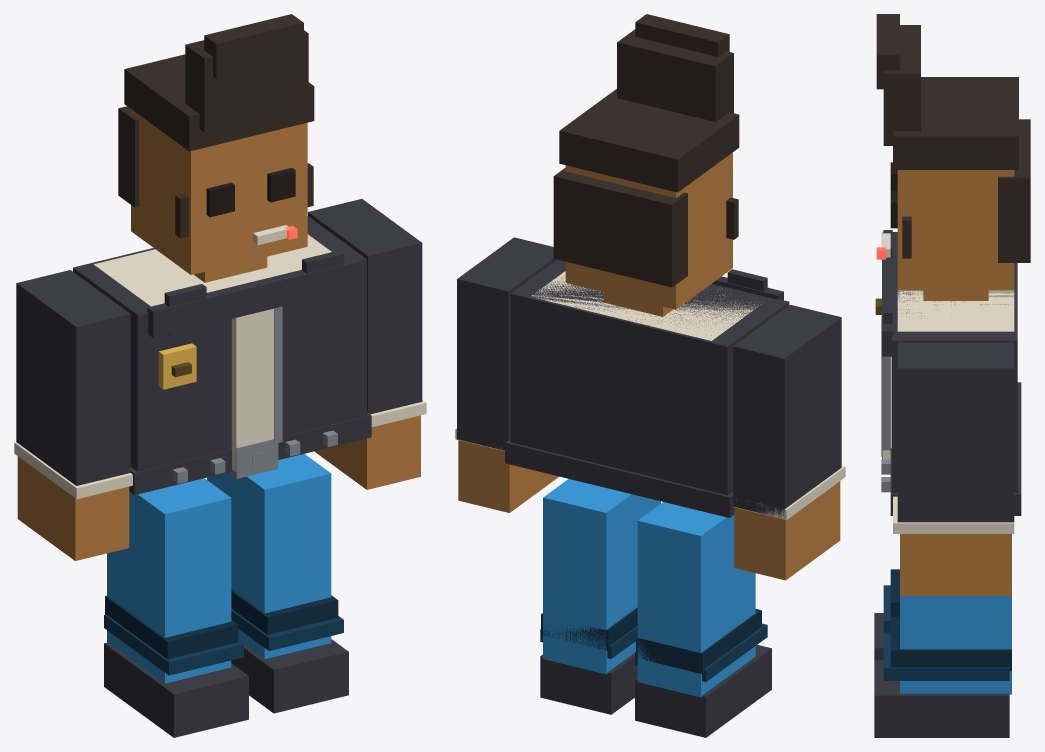
Rendered from archetypes__biker.glb.
3 views of the same model, side by side, from view 1: azimuth 30°, elevation 25°; view 2: azimuth 150°, elevation 25°; view 3: azimuth 270°, elevation 25° (orthographic). The views are drawn at different scales.
Visible parts, largest first — view 1: archetypes__biker, rig_armL, rig_legL, rig_legR, rig_armR; view 2: archetypes__biker, rig_armL, rig_legL, rig_legR, rig_armR; view 3: archetypes__biker, rig_armR, rig_legR, rig_legL.
Boxes of the visible parts, x1,y1,x2,y2 form: archetypes__biker: (73,14,371,495); rig_armL: (14,270,132,560); rig_legL: (104,478,248,737); rig_legR: (207,454,348,713); rig_armR: (308,199,426,489); archetypes__biker: (505,14,789,517); rig_armL: (733,304,845,580); rig_legL: (635,502,771,737); rig_legR: (540,479,660,714); rig_armR: (455,237,558,512); archetypes__biker: (875,14,1030,515); rig_armR: (893,342,1014,595); rig_legR: (874,596,1011,737); rig_legL: (874,569,899,660).
Bounding box in the file's own units: 1.68 × 3.13 × 0.67.
